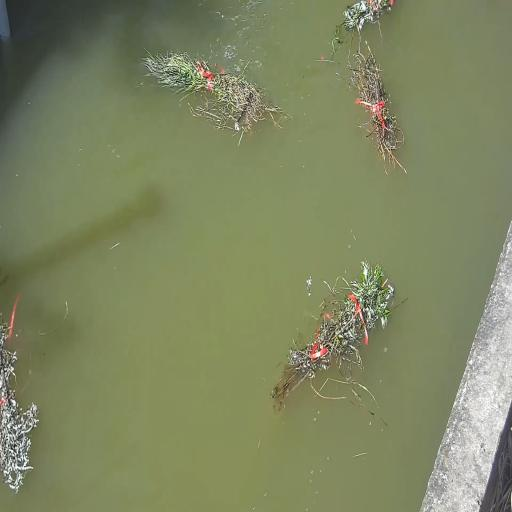twig: (266, 257, 393, 420), (141, 45, 283, 141), (349, 38, 407, 177), (0, 297, 41, 493), (329, 1, 396, 60)
